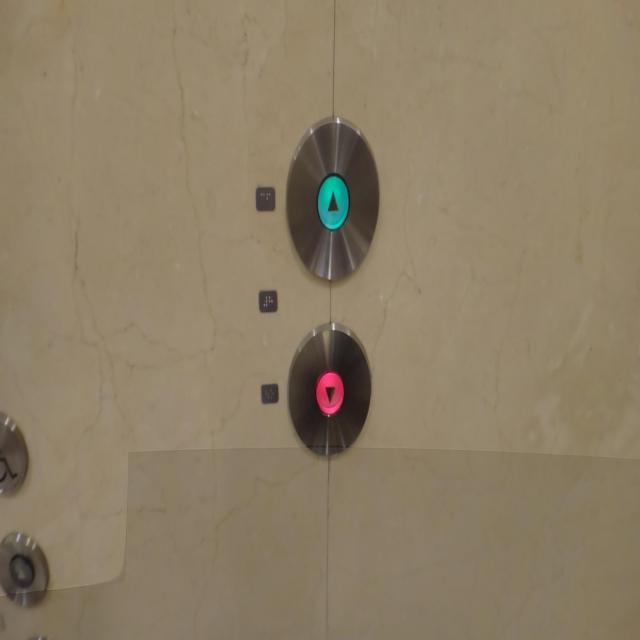down: (286, 321, 372, 457)
up: (285, 113, 379, 282), (0, 527, 52, 615)
